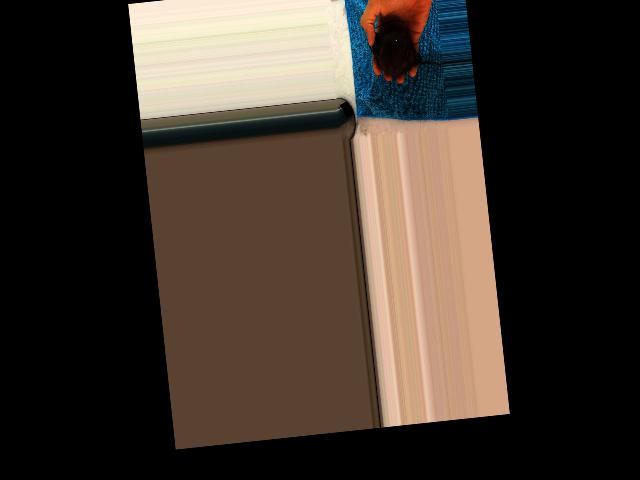beet: (366, 16, 444, 79)
